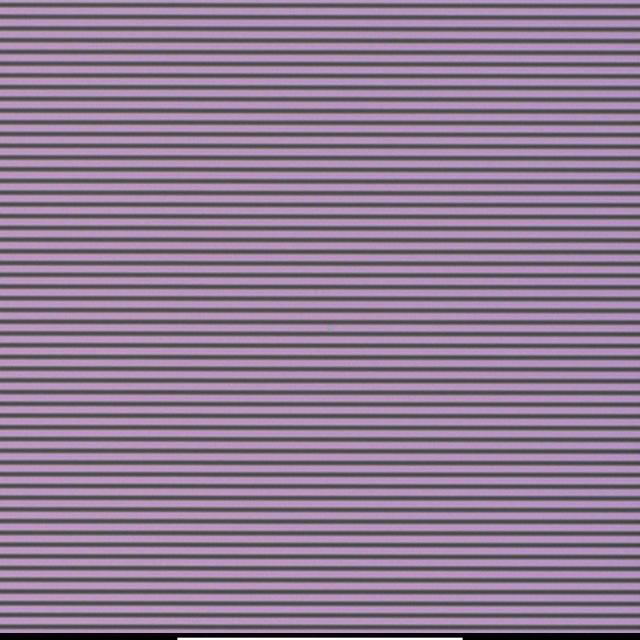nonvisual: (324, 322, 336, 335)
